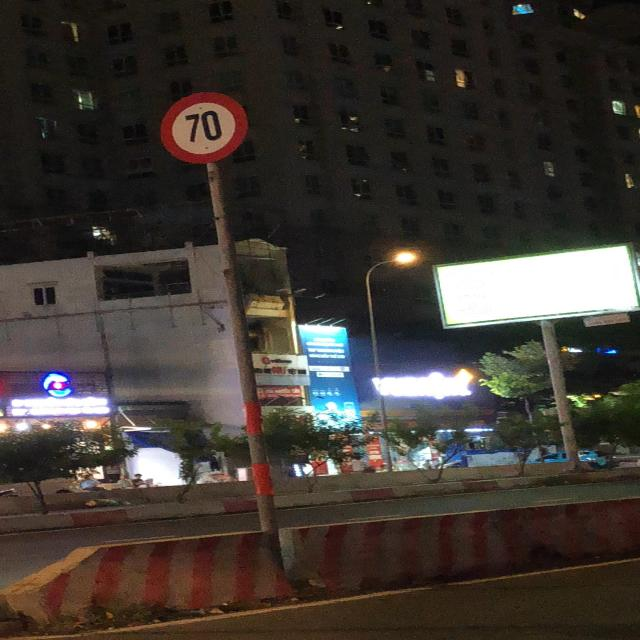Bien bao toc do toi da cho phep: (153, 89, 259, 165)
